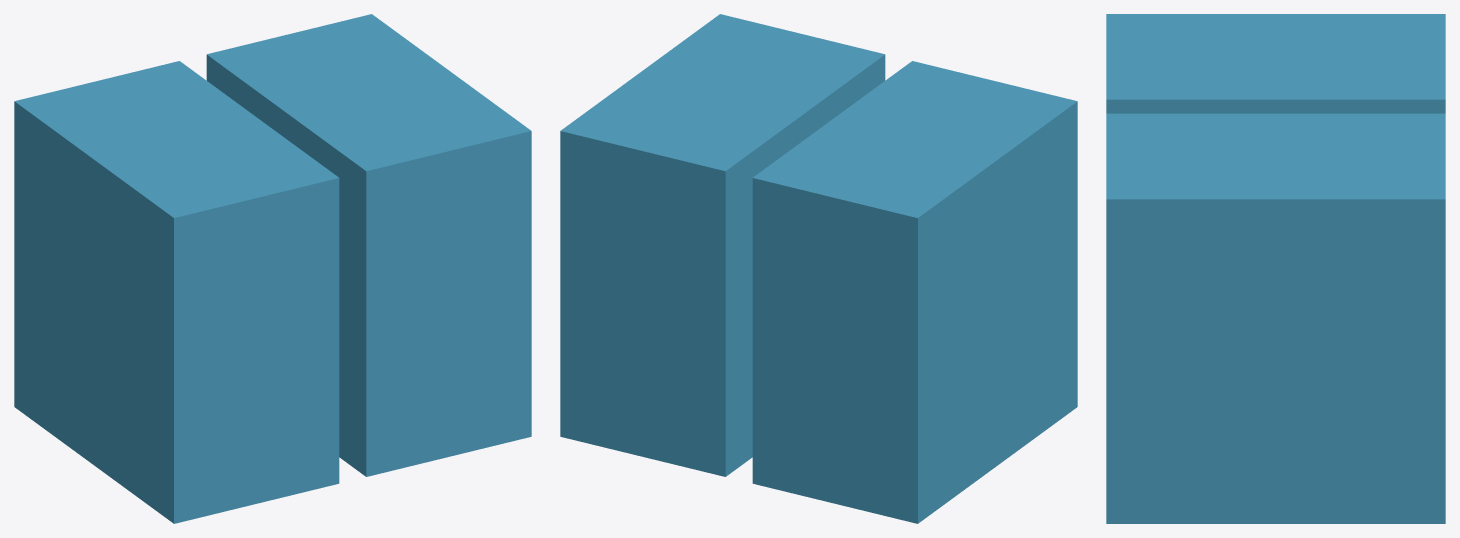
Rendered from FacadeKit_LowriseWindowGrid_LOD2.glb.
The picture shows the model from 3 angles, left to right: view 1: azimuth 30°, elevation 25°; view 2: azimuth 150°, elevation 25°; view 3: azimuth 270°, elevation 25°; orthographic projection. The views are drawn at different scales.
Visible parts, largest first — view 1: FacadeKit_LowriseWindowGrid_LOD2; view 2: FacadeKit_LowriseWindowGrid_LOD2; view 3: FacadeKit_LowriseWindowGrid_LOD2.
Boxes of the visible parts, box(x1,y1,x2,y2) form: FacadeKit_LowriseWindowGrid_LOD2: box(14, 14, 531, 523); FacadeKit_LowriseWindowGrid_LOD2: box(560, 14, 1077, 523); FacadeKit_LowriseWindowGrid_LOD2: box(1106, 14, 1445, 523).
Bounding box in the file's own units: 0.93 × 0.76 × 0.72.
